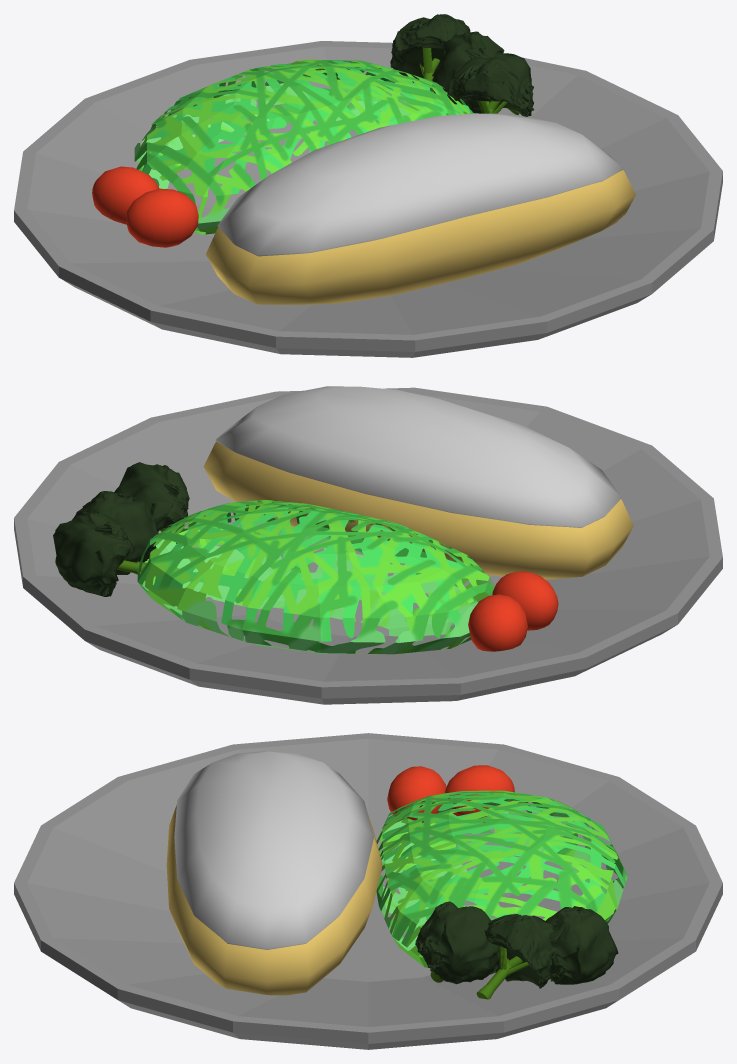
Rendered from omuraisu.fbx.
The picture shows the model from 3 angles, top to bottom: view 1: azimuth 30°, elevation 25°; view 2: azimuth 150°, elevation 25°; view 3: azimuth 270°, elevation 25°; orthographic projection.
Visible parts, largest first — view 1: Dish, Ketchup, Cabbage, OmeletteRice, Broccoli, Tomato; view 2: Dish, Cabbage, Ketchup, OmeletteRice, Broccoli, Tomato; view 3: Dish, Ketchup, Cabbage, Broccoli, OmeletteRice, Tomato.
Part boxes in pixels (bbox=[...]): Dish: bbox=[14, 41, 722, 357]; Ketchup: bbox=[217, 113, 623, 256]; Cabbage: bbox=[134, 59, 473, 234]; OmeletteRice: bbox=[206, 170, 635, 304]; Broccoli: bbox=[390, 14, 534, 116]; Tomato: bbox=[92, 166, 198, 247]; Dish: bbox=[14, 387, 722, 704]; Cabbage: bbox=[137, 500, 494, 654]; Ketchup: bbox=[215, 386, 621, 527]; OmeletteRice: bbox=[203, 441, 633, 579]; Broccoli: bbox=[53, 462, 191, 596]; Tomato: bbox=[468, 571, 558, 651]; Dish: bbox=[14, 733, 722, 1049]; Ketchup: bbox=[174, 751, 373, 949]; Cabbage: bbox=[376, 790, 627, 972]; Broccoli: bbox=[415, 901, 618, 999]; OmeletteRice: bbox=[166, 804, 382, 995]; Tomato: bbox=[387, 765, 514, 822].
Bounding box in the file's own units: 67.8 × 15.41 × 67.8.
